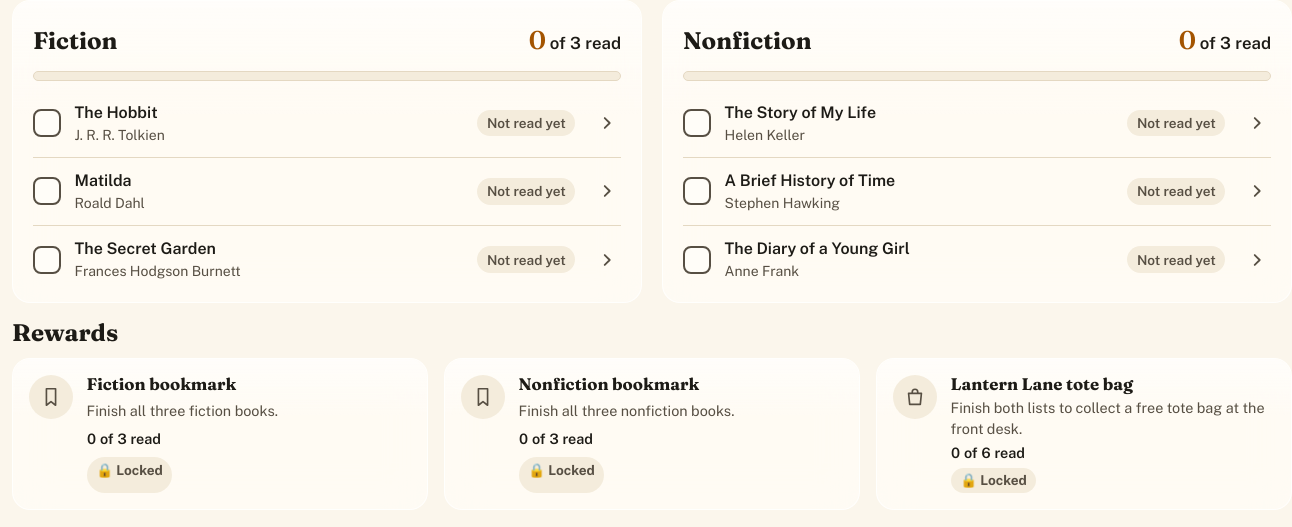
Scenario: ReadingChallenge › keeps the confirmed value while saving, then updates row and count together
The image size is (1292, 527).
Click the checkbox labelled "Matilda Roald Dahl".
click(89, 191)  # box [33,171,145,211]
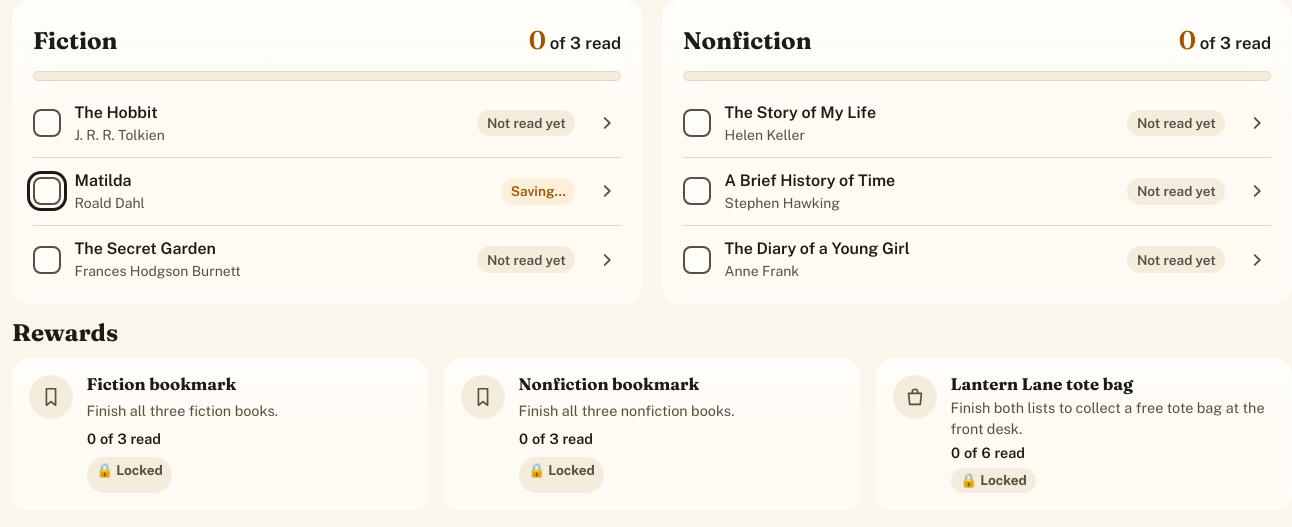
Check: the element with test id "count-fiction" reads "0 of 3 read", box [529,21,621,59]
Check: the text "Saving…" is shown, box [501,178,575,205]
// Duplicate click while in flight is ignored.
Click the checkbox labelled "Matilda Roald Dahl".
click(89, 191)  # box [33,171,145,211]
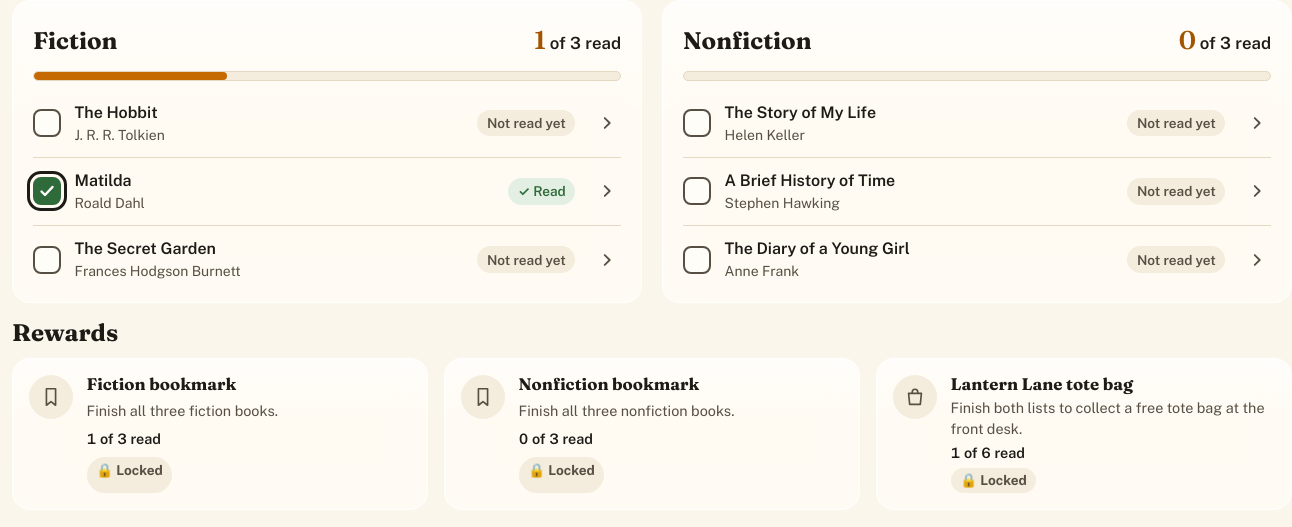
Check: the checkbox labelled "Matilda Roald Dahl" is checked, box [33,171,145,211]
Check: the element with test id "count-fiction" reads "1 of 3 read", box [534,21,621,59]
Check: the text "✓ Read" is shown, box [508,178,575,205]
